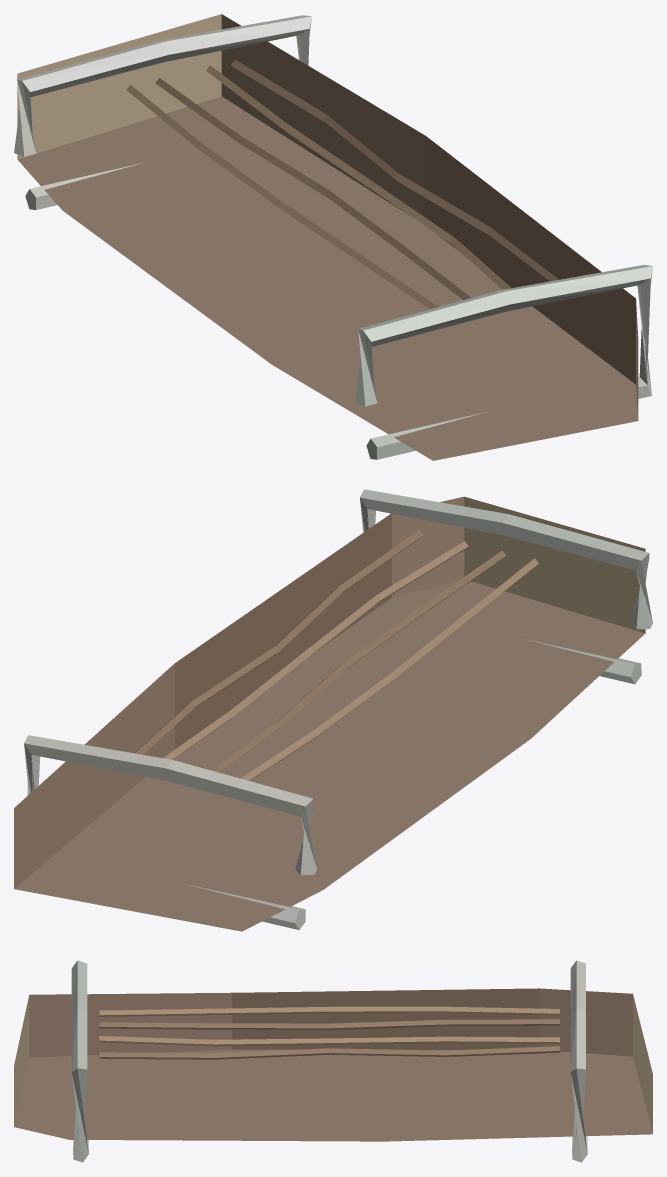
File: bark_plank_a.glb
The picture shows the model from 3 angles, top to bottom: view 1: azimuth 30°, elevation 25°; view 2: azimuth 150°, elevation 25°; view 3: azimuth 270°, elevation 25°; orthographic projection. The views are drawn at different scales.
Visible parts, largest first — view 1: FacetedPlank, SilkEdgeBinding2, SilkEdgeBinding1, WoodGrain4, WoodGrain2, WoodGrain1, WoodGrain3; view 2: FacetedPlank, SilkEdgeBinding1, SilkEdgeBinding2, WoodGrain3, WoodGrain4, WoodGrain2, WoodGrain1; view 3: FacetedPlank, WoodGrain1, WoodGrain3, WoodGrain4, WoodGrain2, SilkEdgeBinding2, SilkEdgeBinding1.
Part boxes in pixels (x1,y1,x2,y2): FacetedPlank: (17,14,638,460); SilkEdgeBinding2: (355,265,652,459); SilkEdgeBinding1: (14,15,311,209); WoodGrain4: (231,59,558,281); WoodGrain2: (155,78,471,299); WoodGrain1: (126,85,438,309); WoodGrain3: (206,65,511,289); FacetedPlank: (14,496,645,931); SilkEdgeBinding1: (24,735,316,929); SilkEdgeBinding2: (360,489,652,684); WoodGrain3: (163,541,468,759); WoodGrain4: (134,530,423,754); WoodGrain2: (212,550,506,772); WoodGrain1: (240,558,538,780); FacetedPlank: (14,988,652,1141); WoodGrain1: (99,1006,559,1016); WoodGrain3: (99,1036,559,1046); WoodGrain4: (99,1046,560,1059); WoodGrain2: (99,1019,559,1029); SilkEdgeBinding2: (71,960,88,1162); SilkEdgeBinding1: (570,960,587,1162).
Size of the model in its own units: 0.259 by 0.1186 by 0.666.
